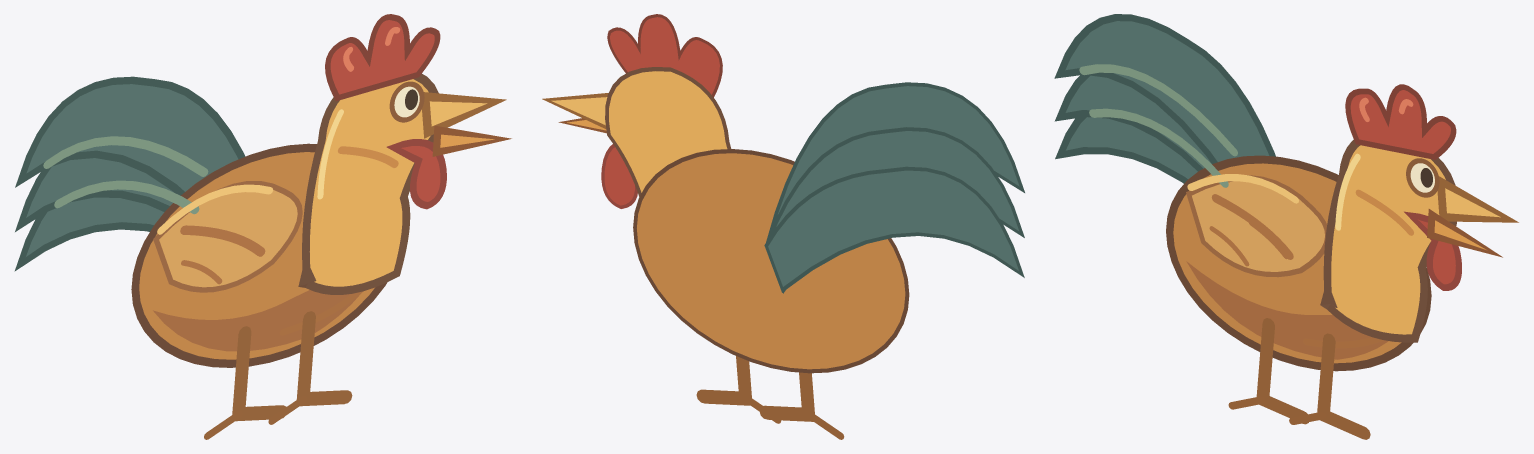
File: cocos.glb
3 renders of one model, left to right at view 1: azimuth 30°, elevation 25°; view 2: azimuth 150°, elevation 25°; view 3: azimuth 330°, elevation 25°, orthographic. The views are drawn at different scales.
Parts seen in each view (by area): view 1: Cocoș · coadă și aripi, Cocoș · creastă și cioc, Cocoș · cioc deschis; view 2: Cocoș · coadă și aripi, Cocoș · creastă și cioc; view 3: Cocoș · coadă și aripi, Cocoș · creastă și cioc, Cocoș · cioc deschis.
Boxes of the visible parts, x1=… form: Cocoș · coadă și aripi: x1=14, y1=76, x2=387, y2=439; Cocoș · creastă și cioc: x1=298, y1=14, x2=506, y2=294; Cocoș · cioc deschis: x1=432, y1=125, x2=511, y2=156; Cocoș · coadă și aripi: x1=633, y1=82, x2=1024, y2=439; Cocoș · creastă și cioc: x1=542, y1=14, x2=731, y2=208; Cocoș · coadă și aripi: x1=1054, y1=14, x2=1431, y2=439; Cocoș · creastă și cioc: x1=1320, y1=84, x2=1518, y2=342; Cocoș · cioc deschis: x1=1427, y1=209, x2=1502, y2=257.
Size of the model in its own units: 1.95 by 1.45 by 0.1089.
